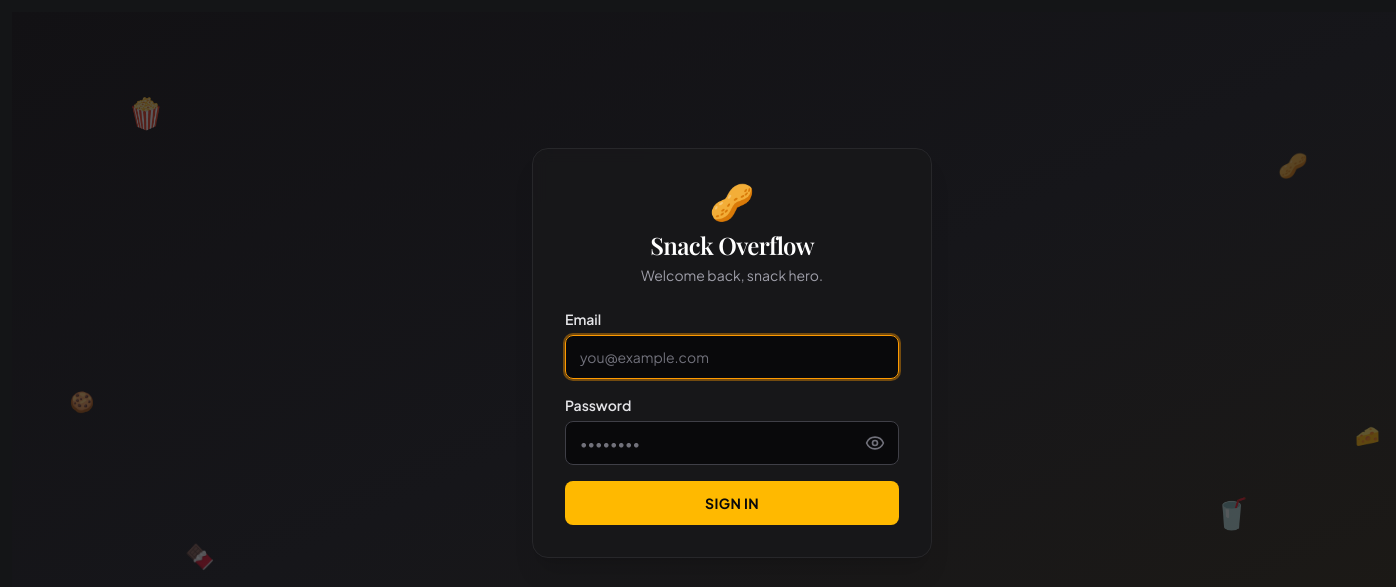
Test: LoginPage › redirects back to the originally requested route after login
Type "member@bpf.com" into the field labelled "Email" at (732, 357), box x1=565 y1=335 x2=899 y2=379
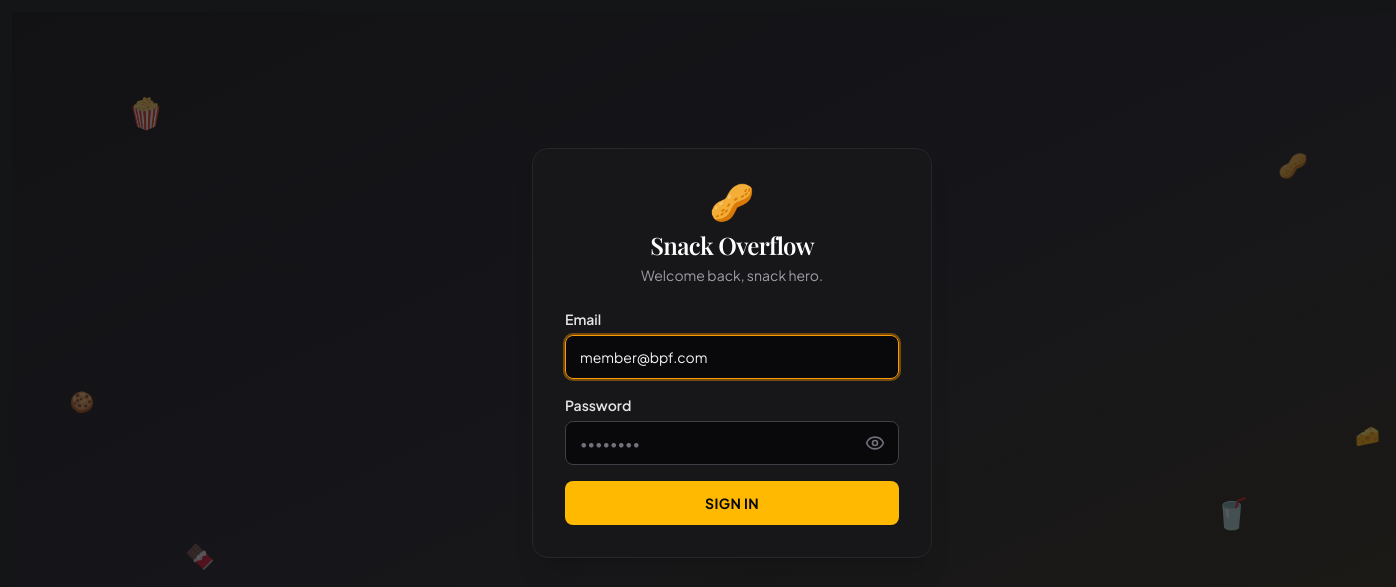
Type "Member@123" into the password field labelled "Password" at (732, 443), box x1=565 y1=421 x2=899 y2=465
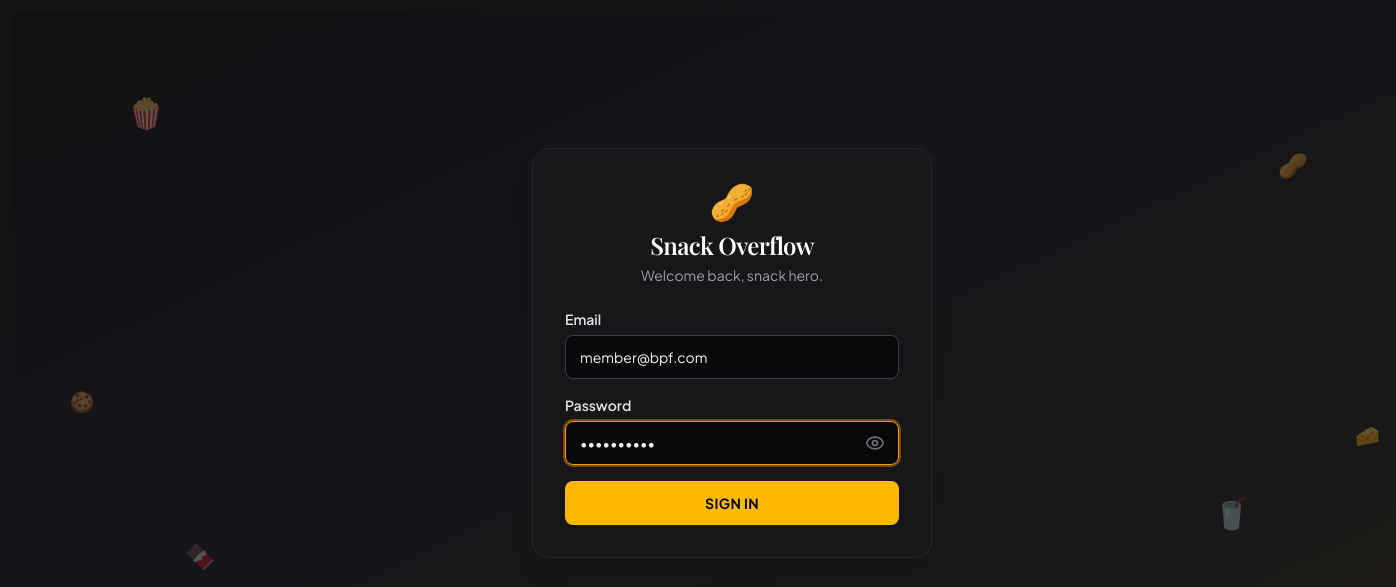
Click the button "Sign in" at (732, 503), box x1=565 y1=481 x2=899 y2=525
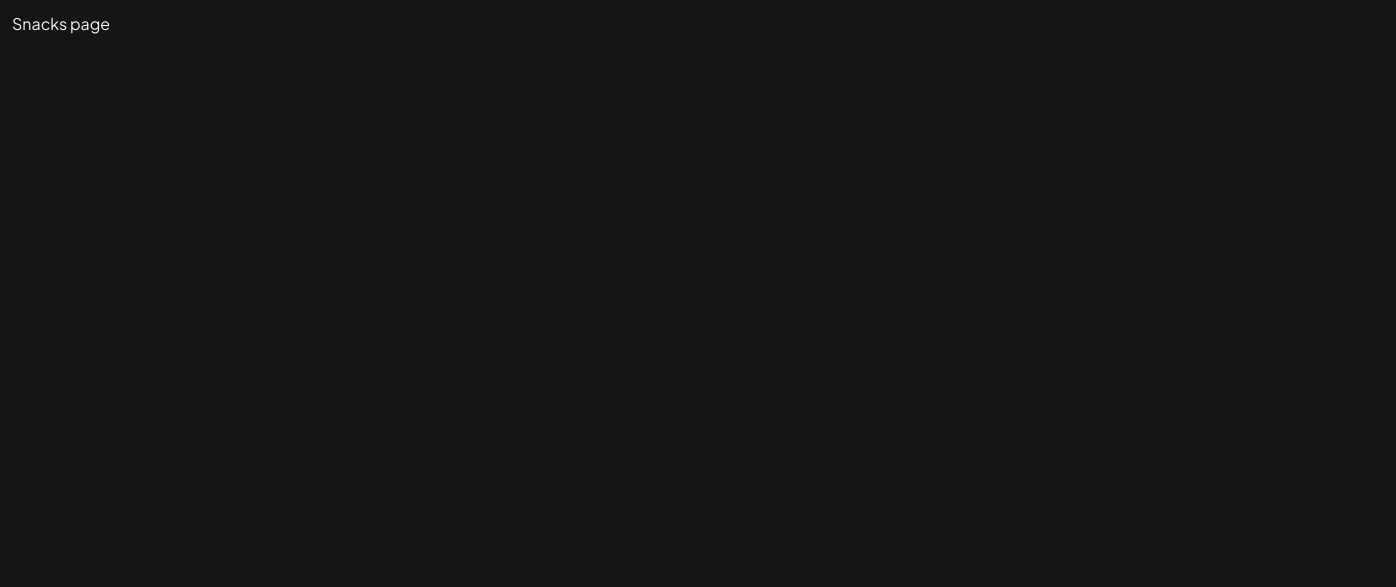
Result: the text "Snacks page" is shown at x1=12 y1=13 x2=110 y2=34
